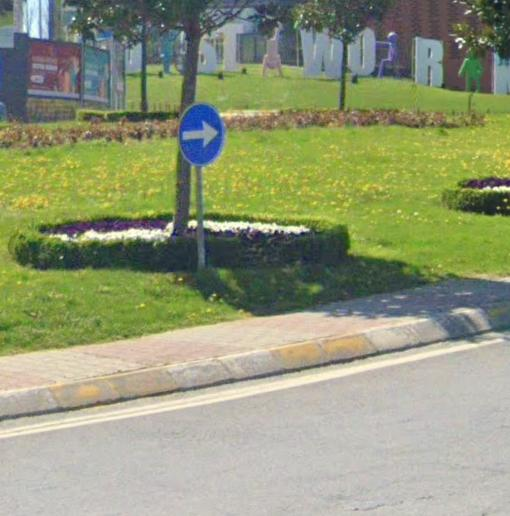turnright: (179, 105, 223, 159)
